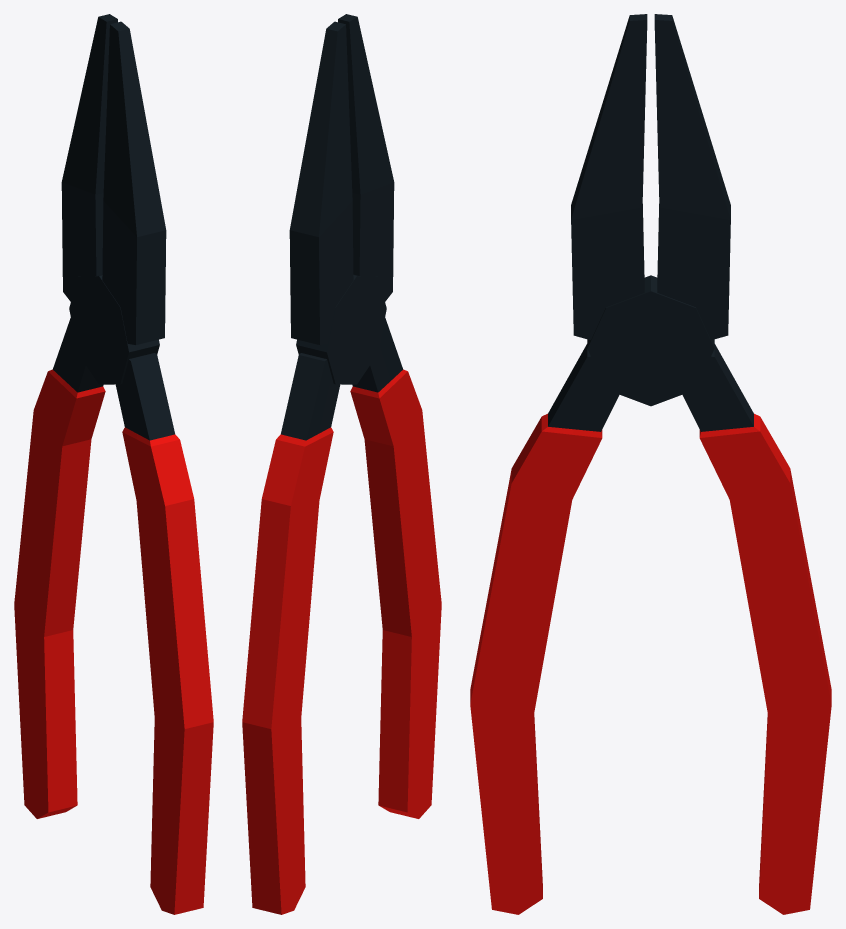
File: Pliers_01.obj
3 renders of one model, left to right at view 1: azimuth 30°, elevation 25°; view 2: azimuth 150°, elevation 25°; view 3: azimuth 270°, elevation 25°, orthographic. The views are drawn at different scales.
Visible parts, largest first — view 1: Pliers_Cube.039; view 2: Pliers_Cube.039; view 3: Pliers_Cube.039.
Part boxes in pixels (x1,y1,x2,y2): Pliers_Cube.039: (14, 14, 213, 914); Pliers_Cube.039: (242, 14, 441, 914); Pliers_Cube.039: (470, 14, 831, 914).
Size of the model in its own units: 0.4313 by 11.21 by 4.13.
